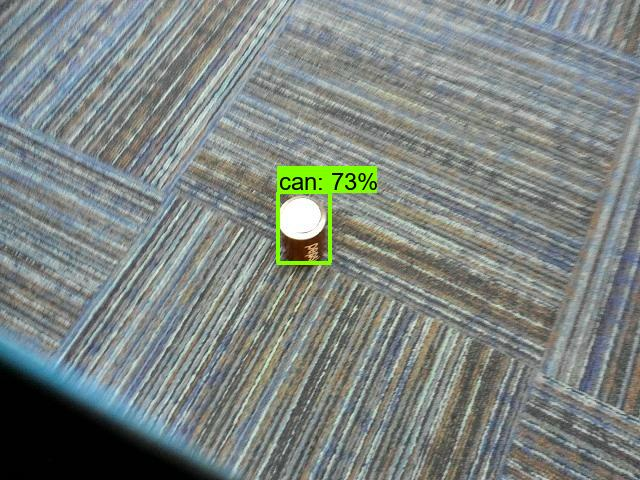can: (272, 194, 338, 276)
